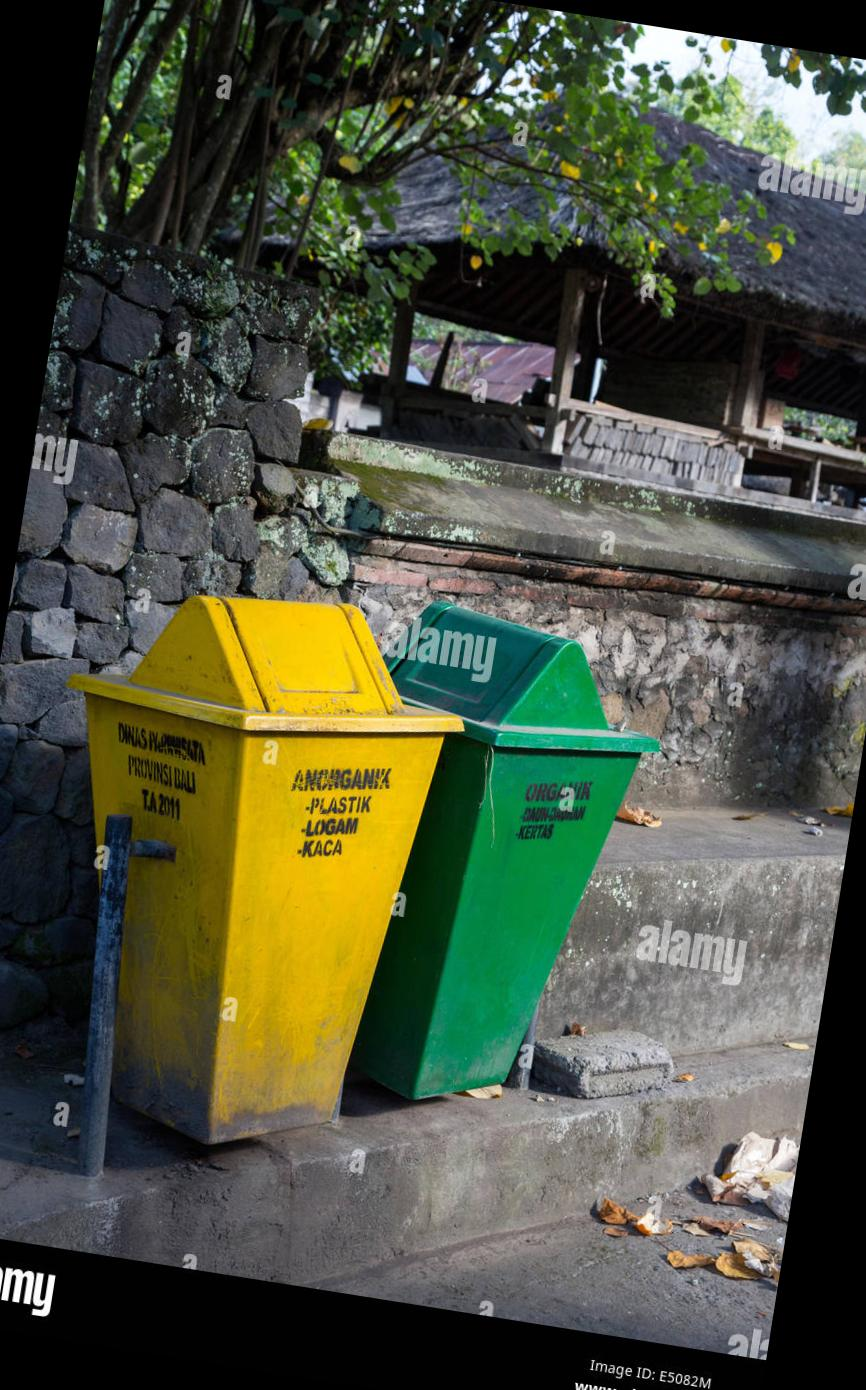garbage bin: (71, 597, 463, 1143), (352, 600, 660, 1098)
